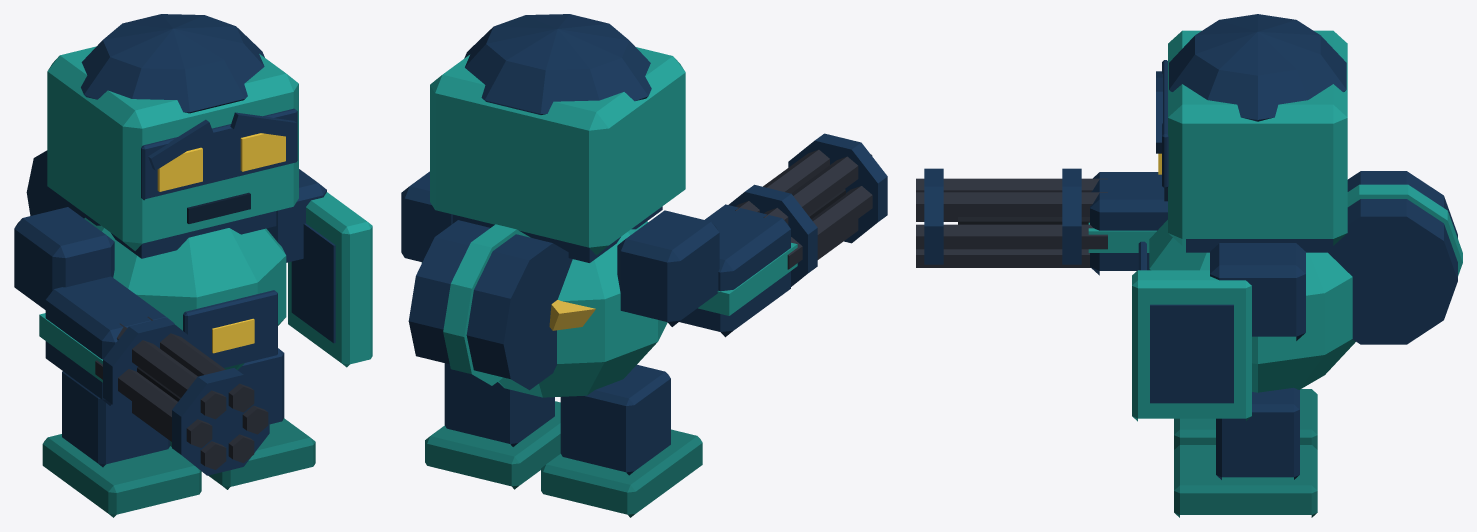
Rendered from miniboss_gatling.glb.
The picture shows the model from 3 angles, left to right: view 1: azimuth 30°, elevation 25°; view 2: azimuth 150°, elevation 25°; view 3: azimuth 270°, elevation 25°; orthographic projection.
Visible parts, largest first — view 1: miniboss_gatling_mesh; view 2: miniboss_gatling_mesh; view 3: miniboss_gatling_mesh.
Boxes of the visible parts, x1,y1,x2,y2 form: miniboss_gatling_mesh: [14, 14, 372, 517]; miniboss_gatling_mesh: [401, 14, 887, 517]; miniboss_gatling_mesh: [916, 14, 1462, 517].
Bounding box in the file's own units: 2.73 × 3.8 × 4.3.
1 material, 1 textured.
